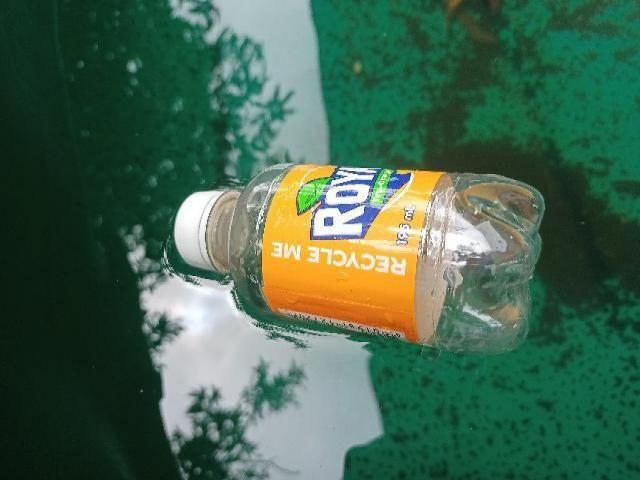Bottle: (175, 159, 549, 361)
